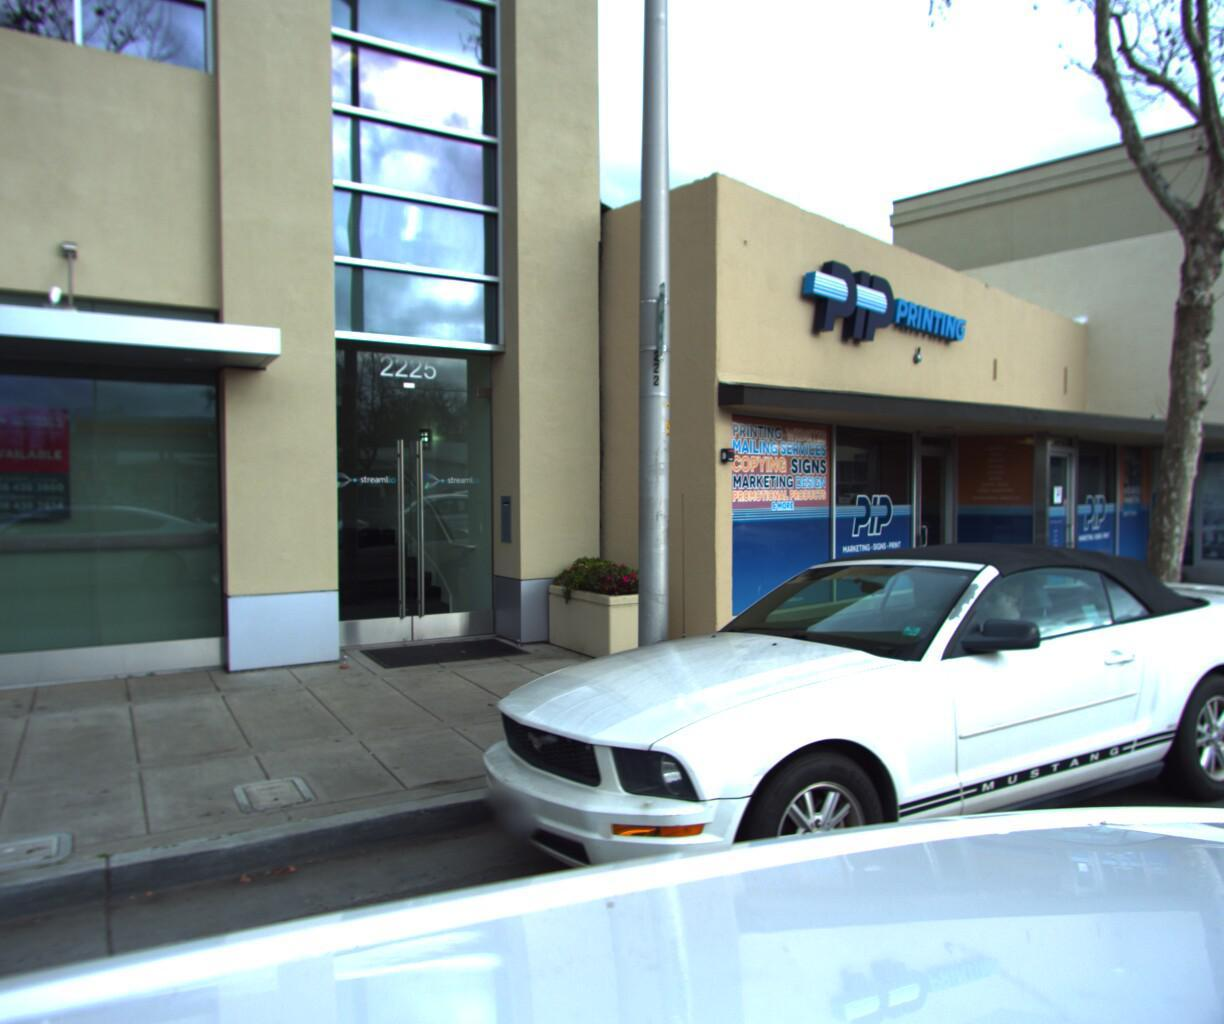car: (437, 528, 1224, 1024), (1197, 513, 1224, 742)
